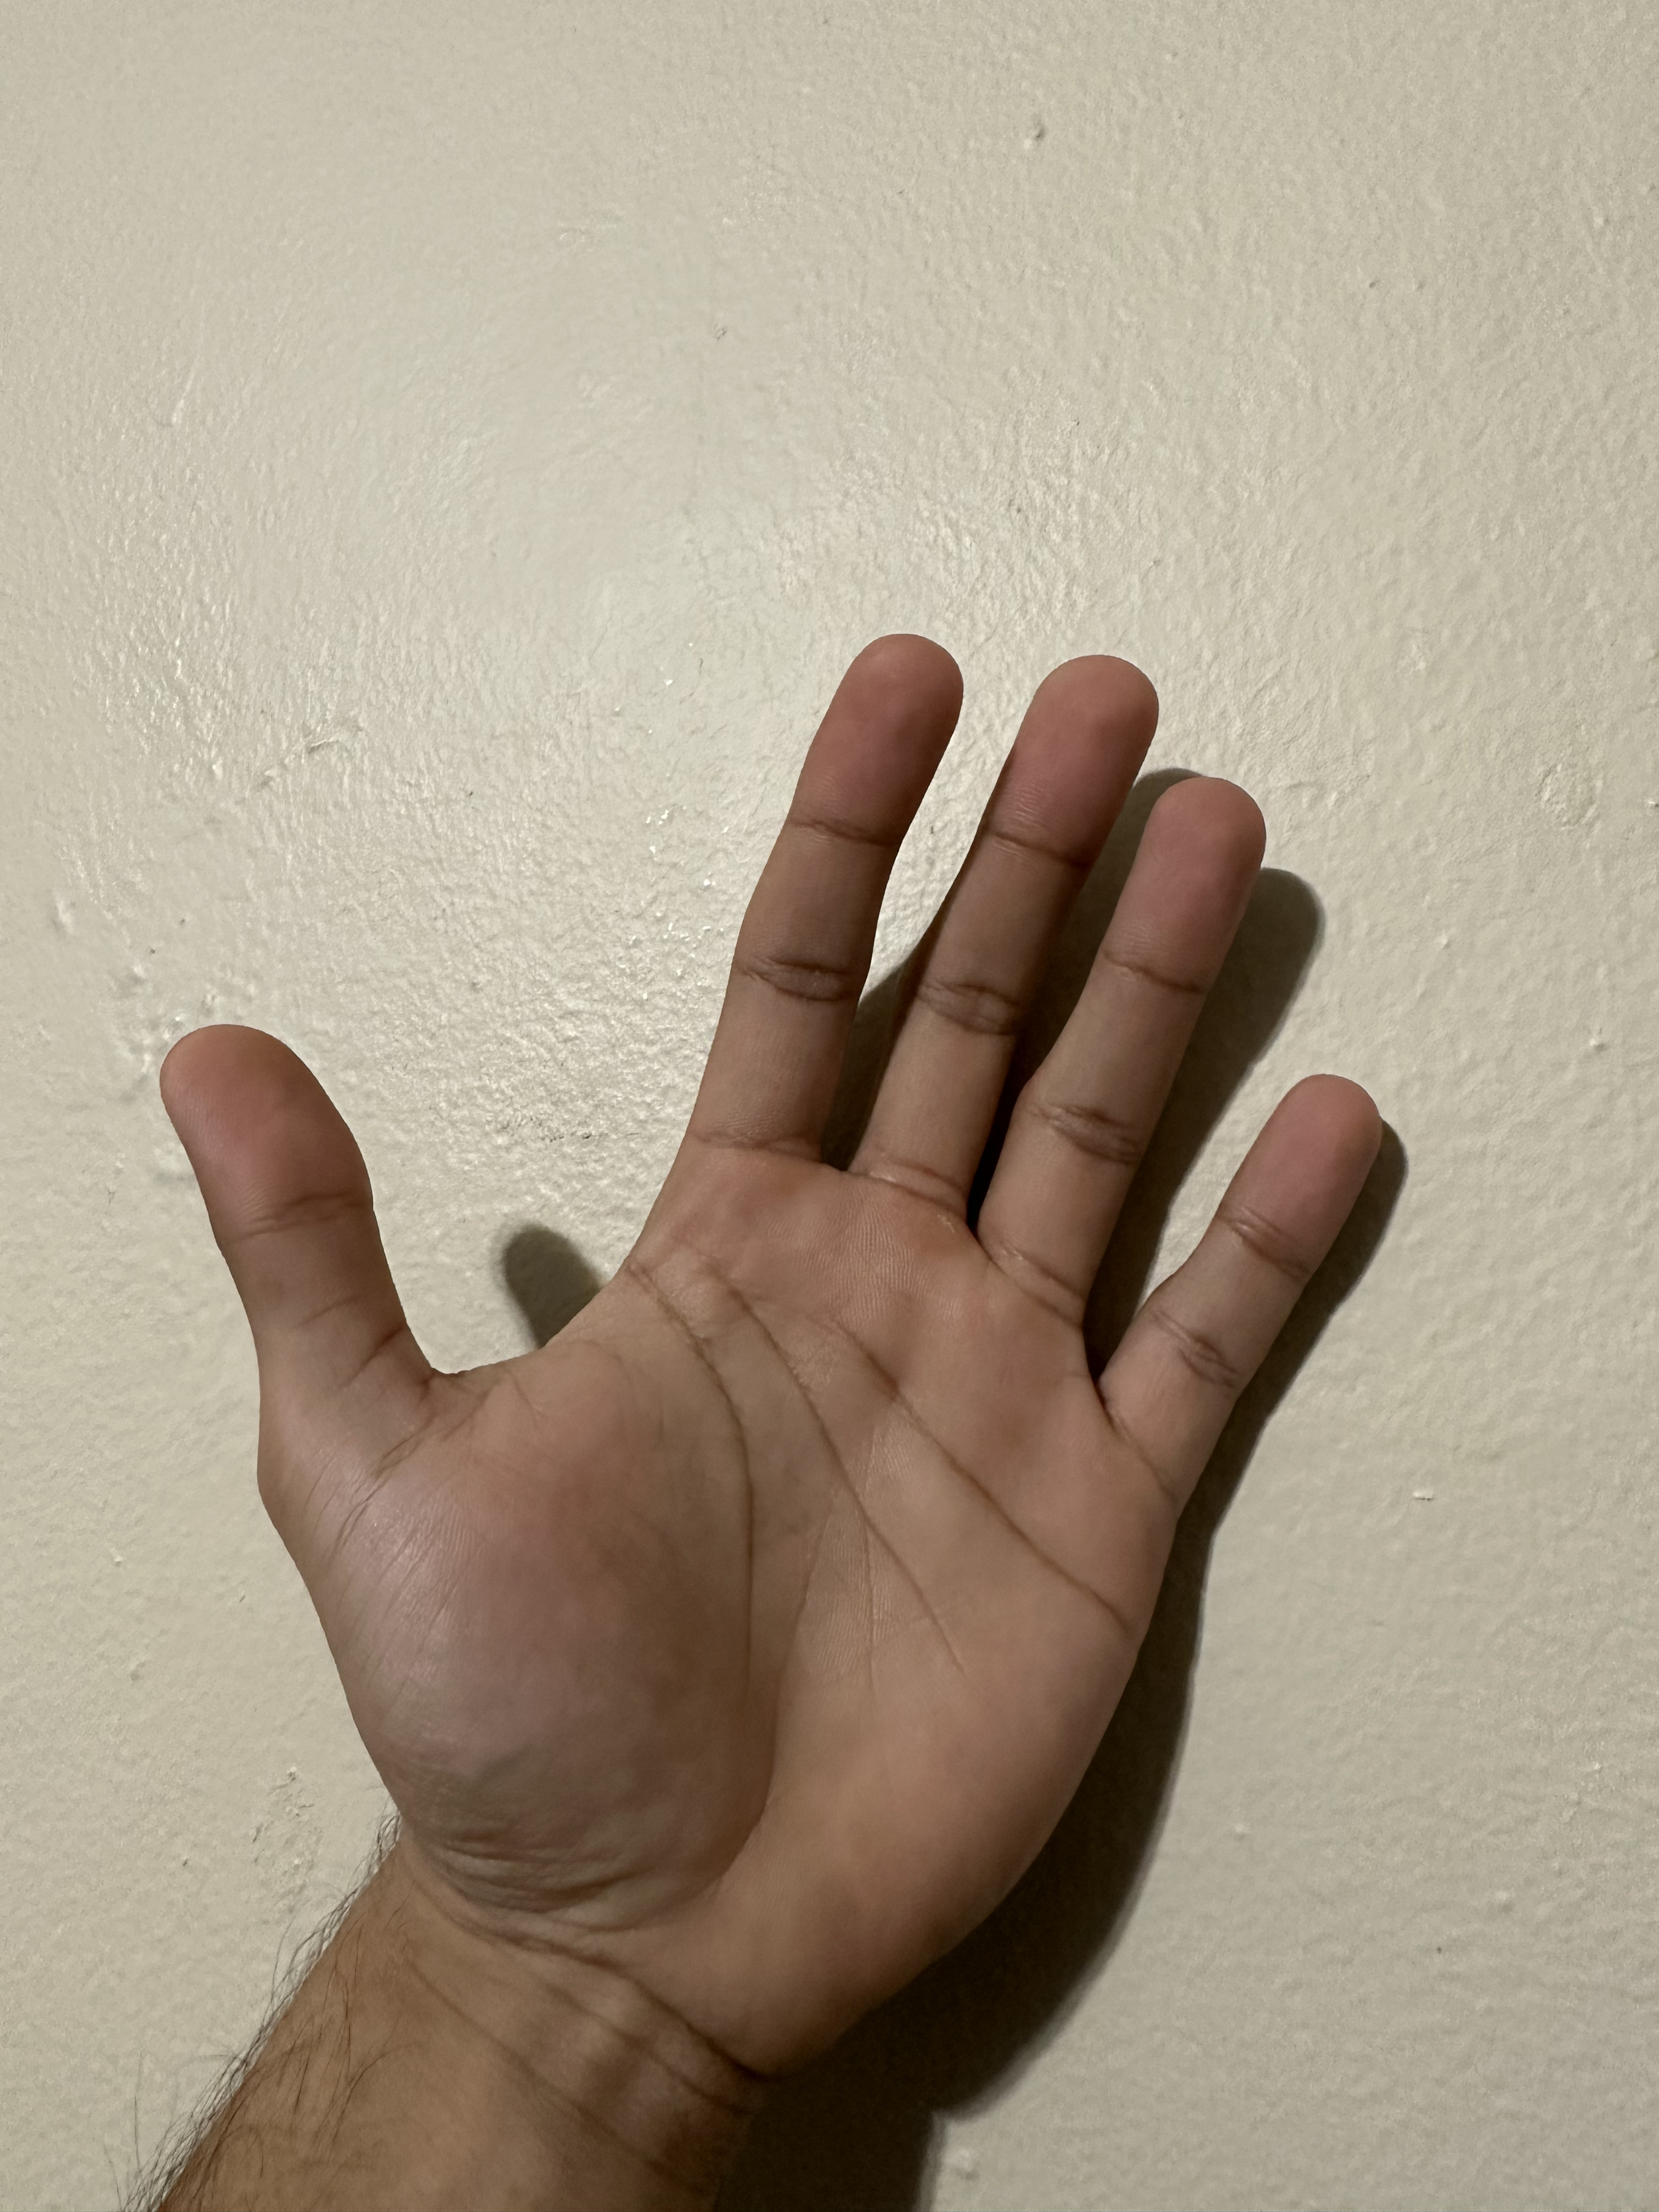finger: (138, 996, 394, 1224), (800, 592, 981, 829), (1232, 1049, 1413, 1278), (1121, 742, 1290, 977), (997, 601, 1164, 838)
